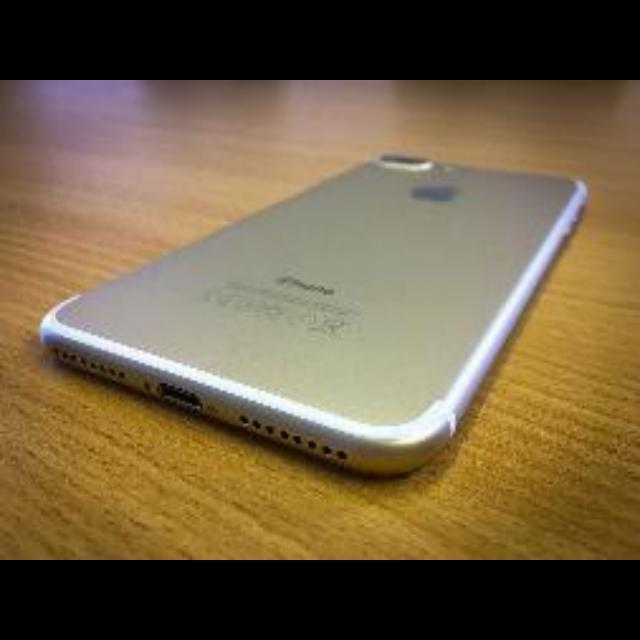phone: (14, 106, 602, 502)
